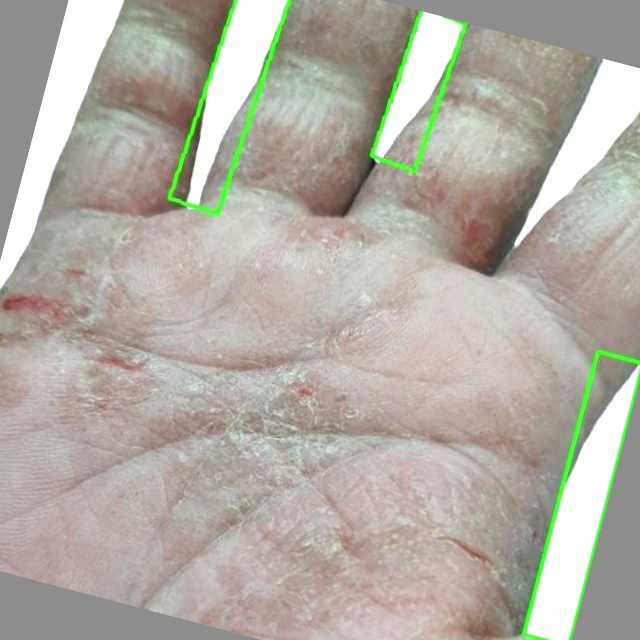Contact Dermatitis: (523, 351, 639, 639), (169, 0, 289, 214), (371, 11, 466, 171)
